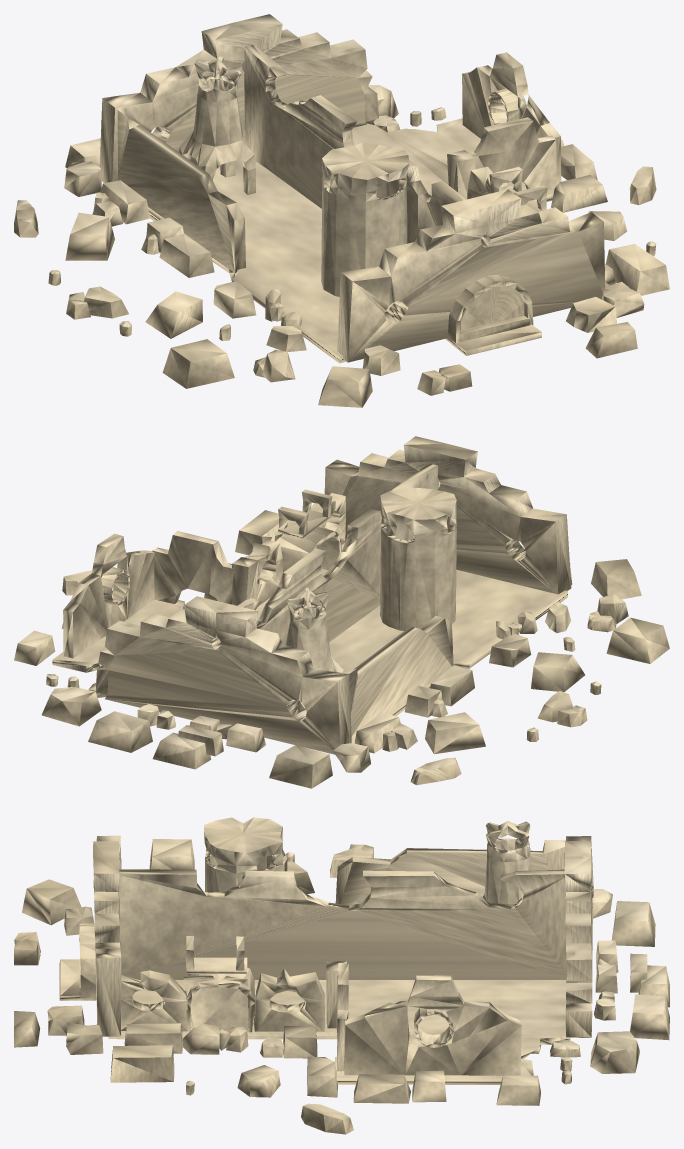
3 views of the same model, one above another, from view 1: azimuth 30°, elevation 25°; view 2: azimuth 150°, elevation 25°; view 3: azimuth 270°, elevation 25° (orthographic). The views are drawn at different scales.
Parts seen in each view (by area): view 1: castle_d3.4; view 2: castle_d3.4; view 3: castle_d3.4.
Part boxes in pixels (<box>): castle_d3.4: <box>14,14,669,407</box>; castle_d3.4: <box>14,436,669,788</box>; castle_d3.4: <box>14,817,669,1134</box>.
Size of the model in its own units: 2.9 by 0.7108 by 2.9.
Materials: 1 (1 with a texture image).
